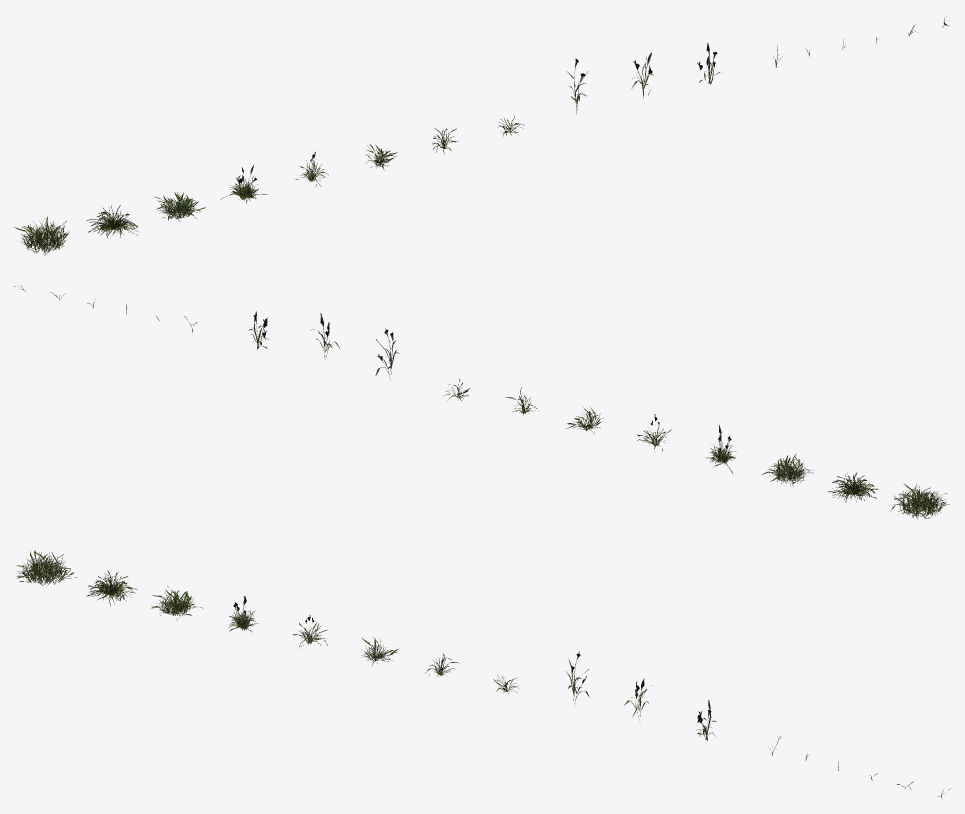
File: grass_medium_01.glb
3 renders of one model, top to bottom at view 1: azimuth 30°, elevation 25°; view 2: azimuth 150°, elevation 25°; view 3: azimuth 330°, elevation 25°, orthographic.
Parts seen in each view (by area): view 1: grass_medium_01_large_a_LOD0, grass_medium_01_large_b_LOD0, grass_medium_01_large_c_LOD0; view 2: grass_medium_01_large_a_LOD0, grass_medium_01_large_c_LOD0, grass_medium_01_large_b_LOD0; view 3: grass_medium_01_large_a_LOD0, grass_medium_01_large_b_LOD0, grass_medium_01_large_c_LOD0.
Boxes of the visible parts, box(x1,y1,x2,y2) form: grass_medium_01_large_a_LOD0: box(14, 216, 69, 255); grass_medium_01_large_b_LOD0: box(86, 205, 138, 238); grass_medium_01_large_c_LOD0: box(154, 192, 205, 221); grass_medium_01_large_a_LOD0: box(889, 483, 949, 518); grass_medium_01_large_c_LOD0: box(761, 454, 813, 486); grass_medium_01_large_b_LOD0: box(827, 472, 878, 502); grass_medium_01_large_a_LOD0: box(16, 550, 77, 585); grass_medium_01_large_b_LOD0: box(86, 570, 137, 606); grass_medium_01_large_c_LOD0: box(151, 586, 203, 620).
Size of the model in its own units: 5.6 by 0.3428 by 0.3266.
Materials: 1 (1 with a texture image).
